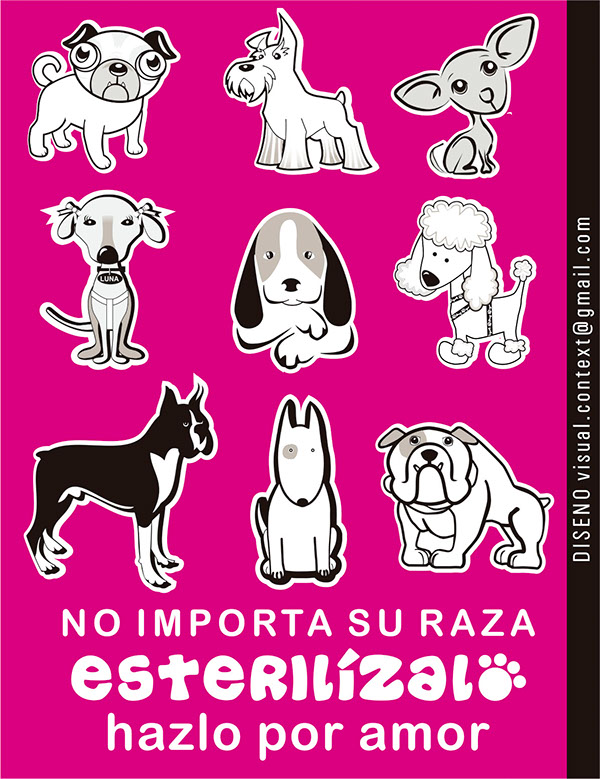dog: (25, 384, 219, 596), (370, 419, 553, 581), (384, 197, 541, 378), (386, 12, 545, 183), (25, 188, 170, 375), (222, 13, 380, 179), (22, 21, 187, 179), (223, 203, 362, 380), (240, 394, 347, 593)
